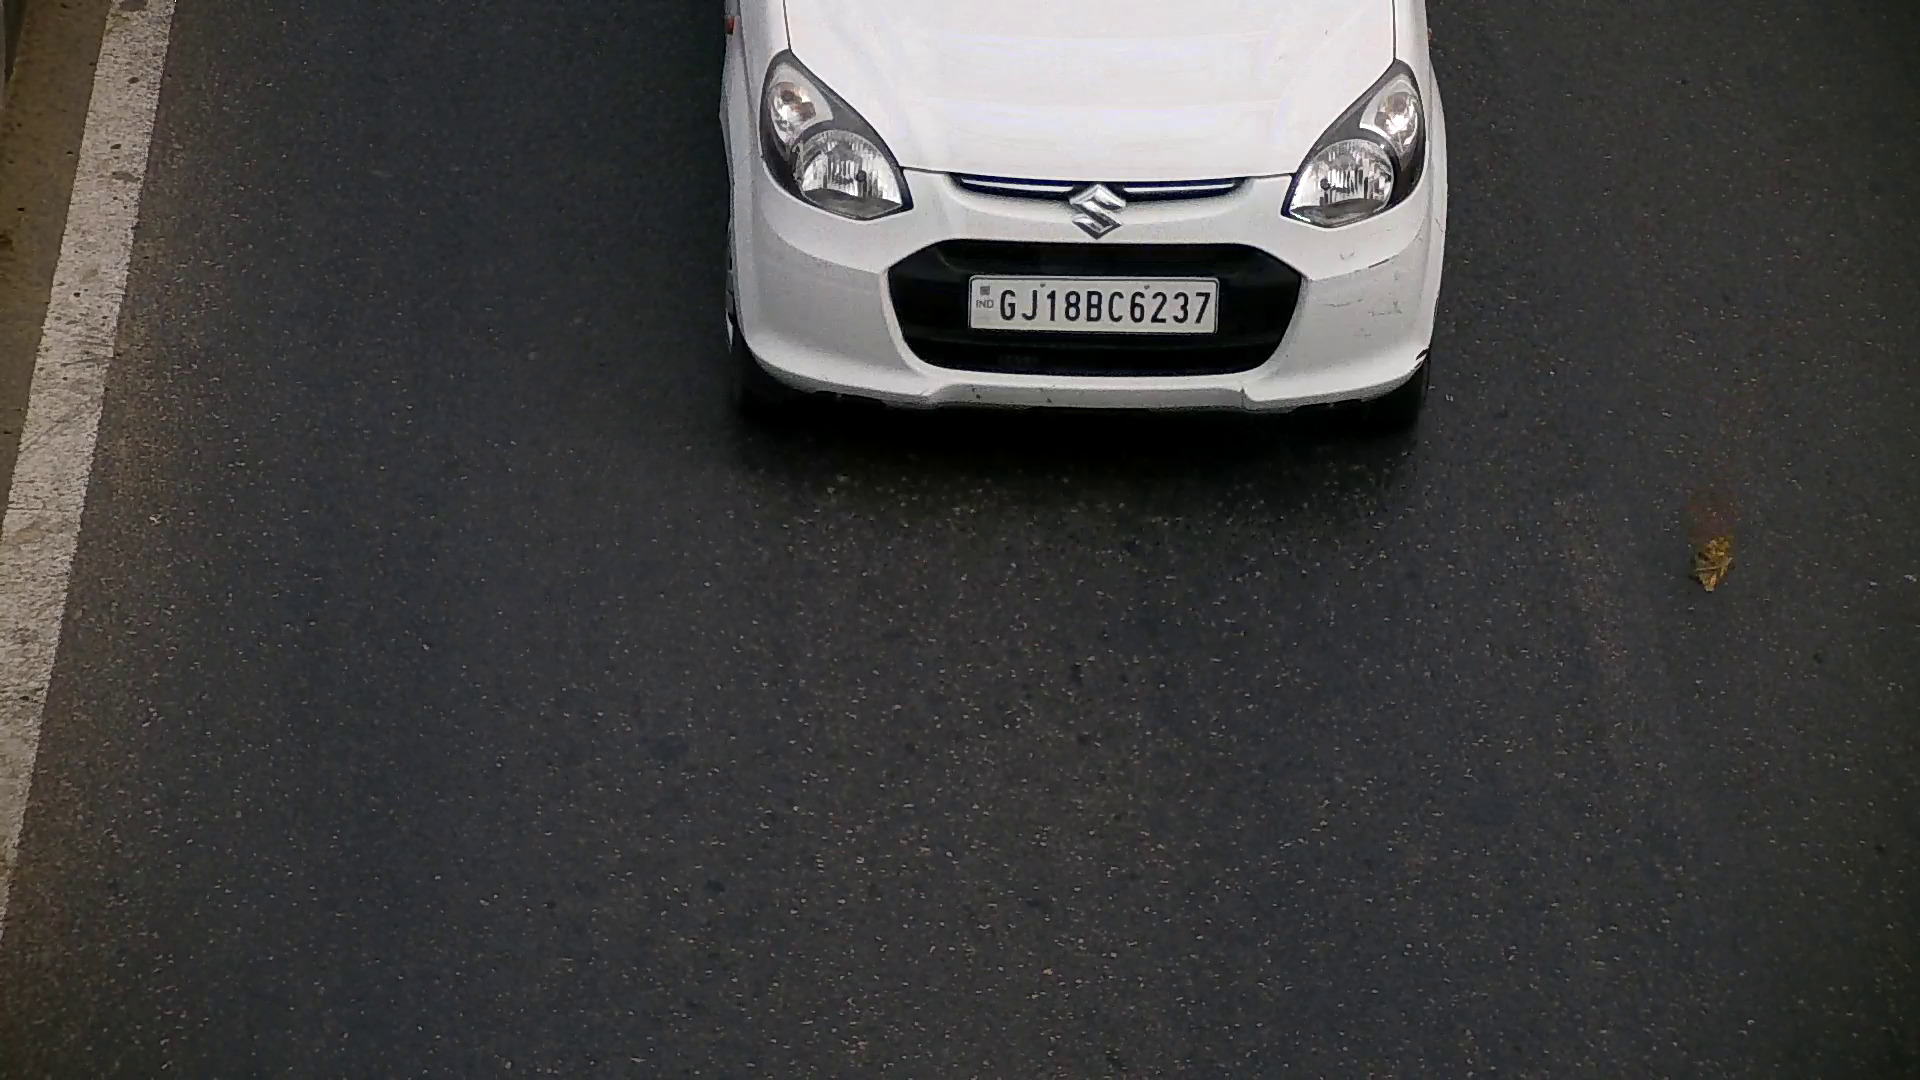numberplate: (965, 269, 1219, 337)
